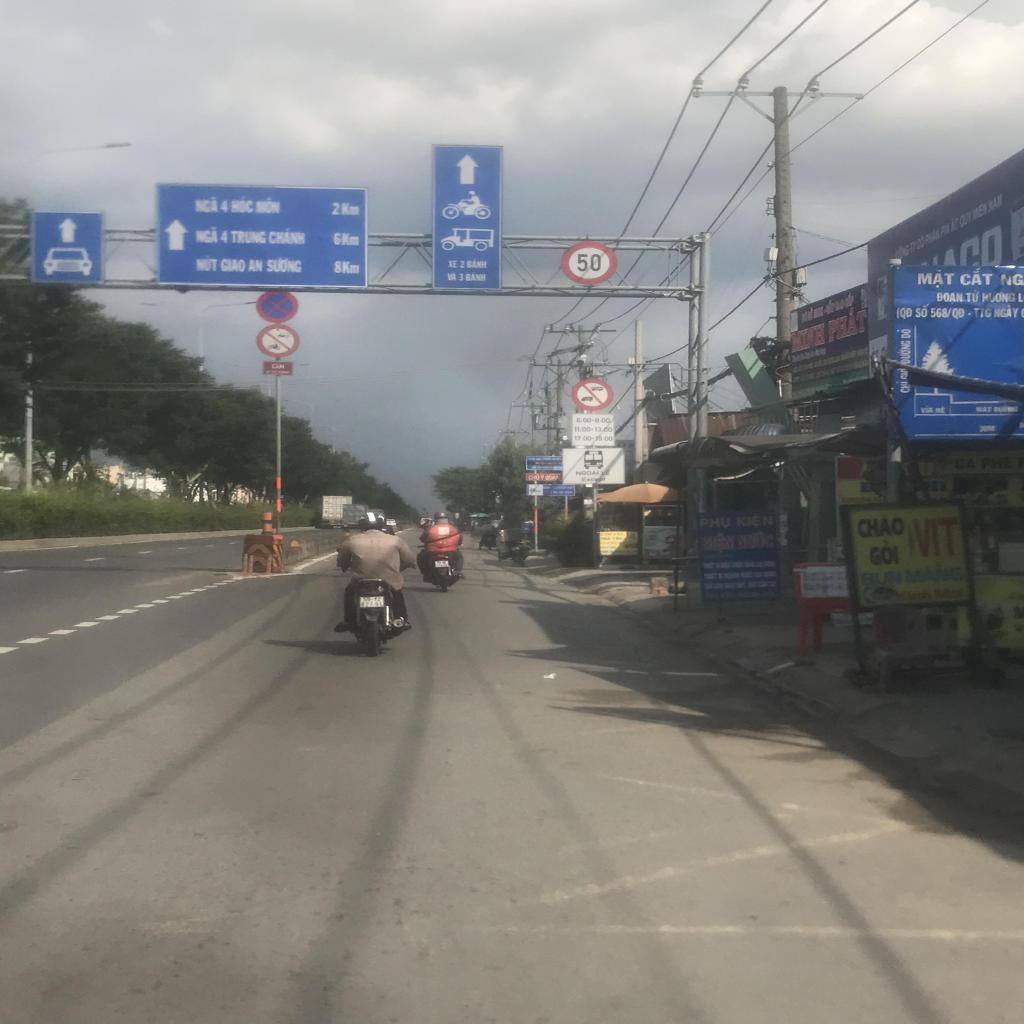cam_dung_xe_va_do_xe: (255, 290, 299, 324)
cam_o_to_tai_va_xe_khach: (571, 378, 614, 412)
cam_xe_2_banh_va_xe_3_banh_co_dong_co: (256, 325, 300, 358)
duong_cho_xe_o_to: (32, 211, 104, 283)
khac: (157, 184, 368, 287), (433, 146, 501, 289), (562, 448, 624, 484), (572, 414, 615, 446)
toc_do_toi_da_50: (561, 241, 618, 286)
